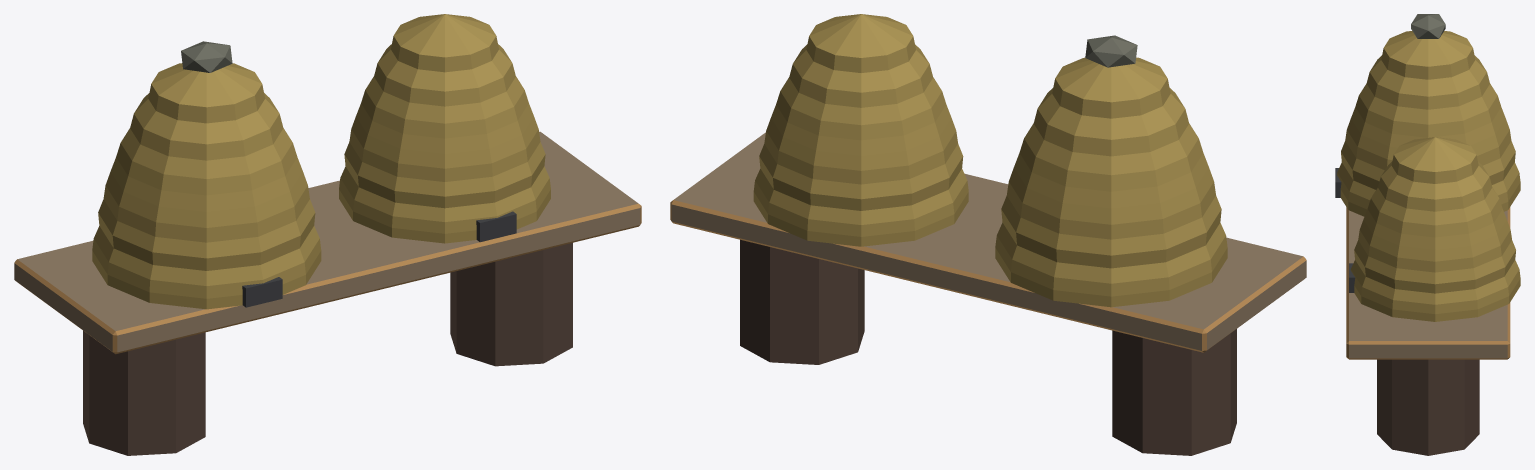
The model's file is beehives.glb.
The picture shows the model from 3 angles, left to right: view 1: azimuth 30°, elevation 25°; view 2: azimuth 150°, elevation 25°; view 3: azimuth 270°, elevation 25°; orthographic projection. The views are drawn at different scales.
Parts seen in each view (by area): view 1: Beehives; view 2: Beehives; view 3: Beehives.
Boxes of the visible parts, x1,y1,x2,y2 form: Beehives: (14,14,641,455); Beehives: (670,14,1306,455); Beehives: (1335,14,1520,455).
Size of the model in its own units: 1.44 by 0.966 by 0.542.
